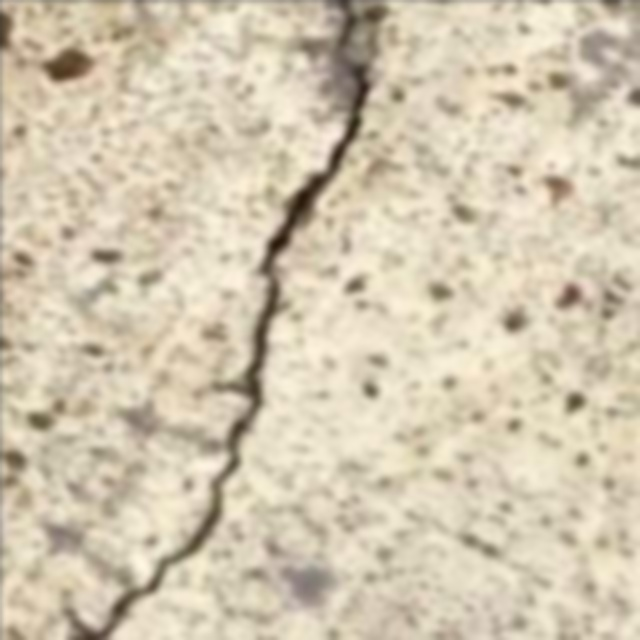SurfaceCrack: (70, 0, 418, 640)
